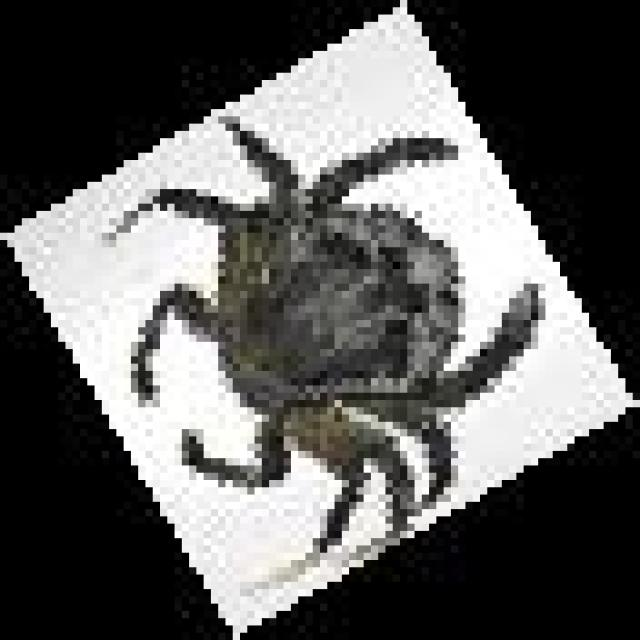European Green crab: (116, 116, 538, 560)
